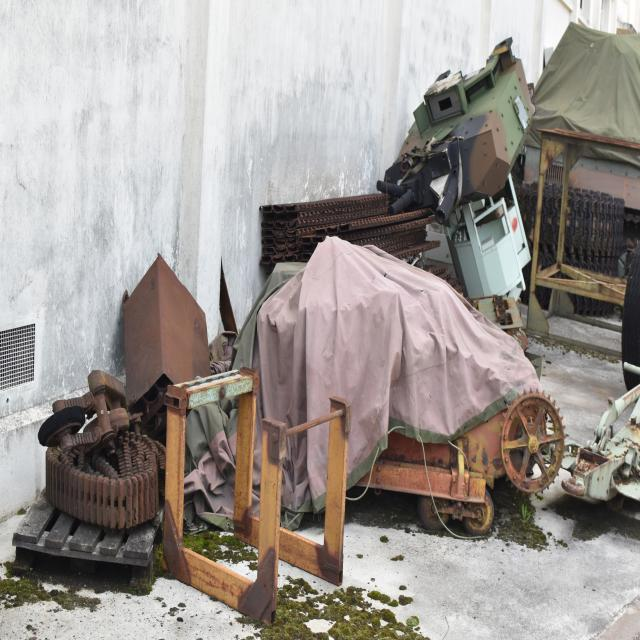entulho: (213, 232, 566, 532), (165, 372, 351, 611), (528, 114, 640, 358), (391, 56, 538, 225), (40, 352, 175, 535), (13, 448, 173, 586), (111, 252, 221, 414), (254, 173, 446, 264), (523, 6, 640, 151), (573, 355, 640, 519)
